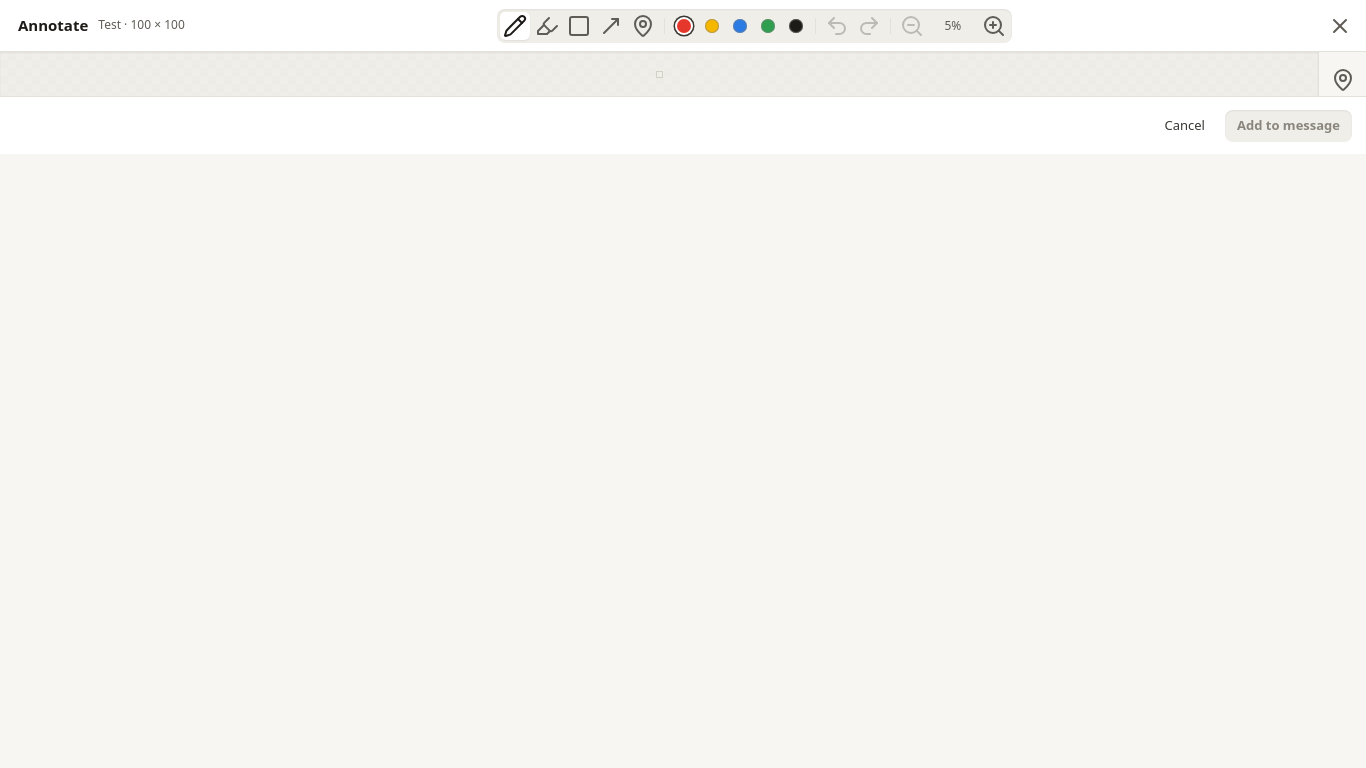
Test case: undoes an accidental pin from its empty note and allows redo
The width and height of the screenshot is (1366, 768).
Click the button titled "Show pins" at {"x": 1342, "y": 80}, box [1326,64,1358,96]
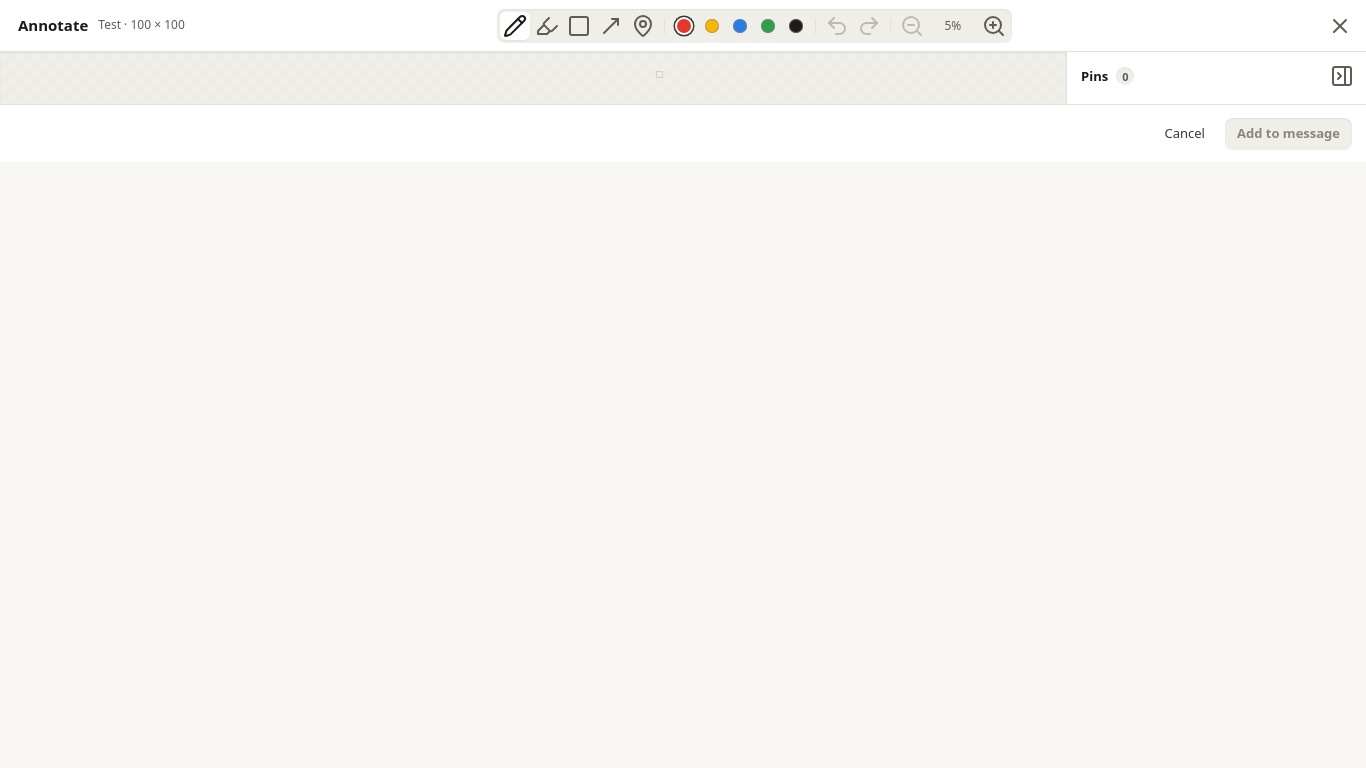
Click the button named "Pin" at {"x": 643, "y": 26}, box [628,12,658,40]
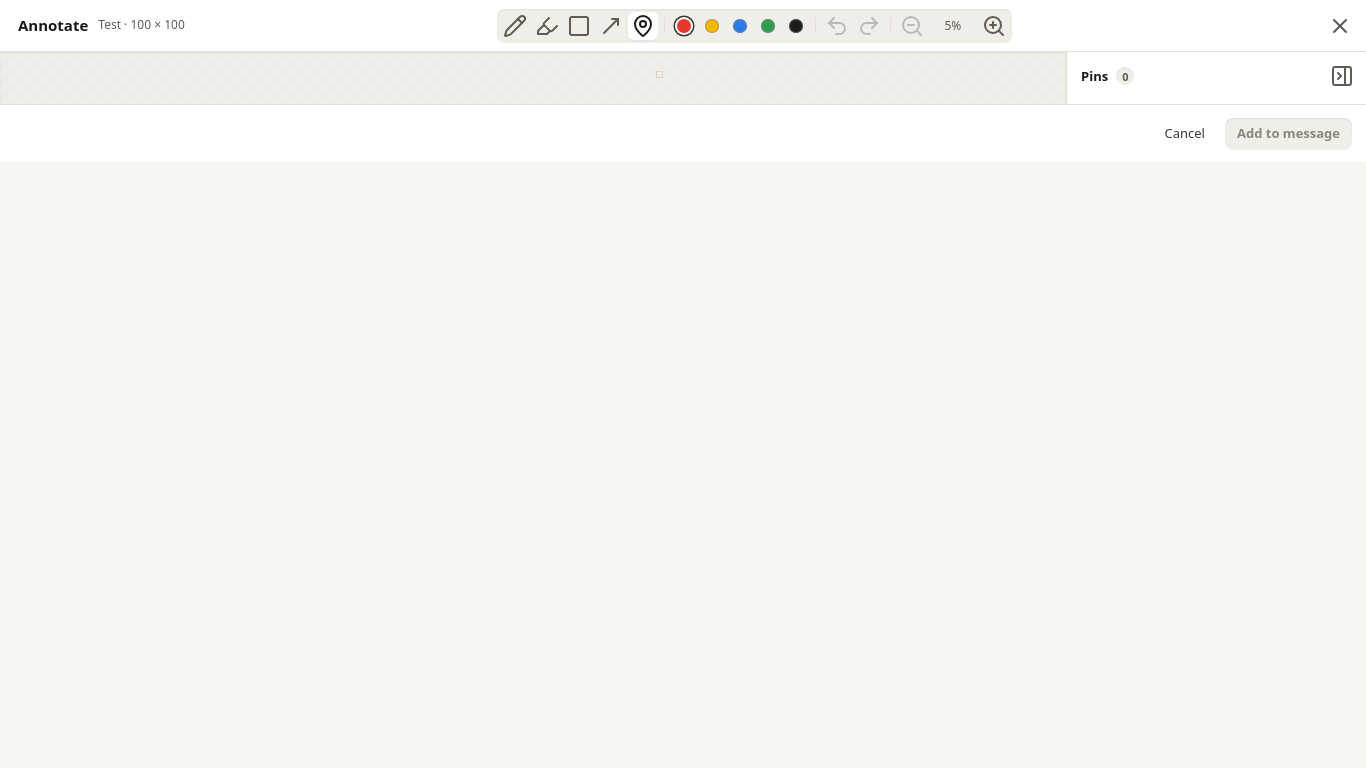
Press the mouse on the drawing named "The capture: click to place a pin, or drag to draw" at {"x": 659, "y": 74}, box [656,72,662,76]
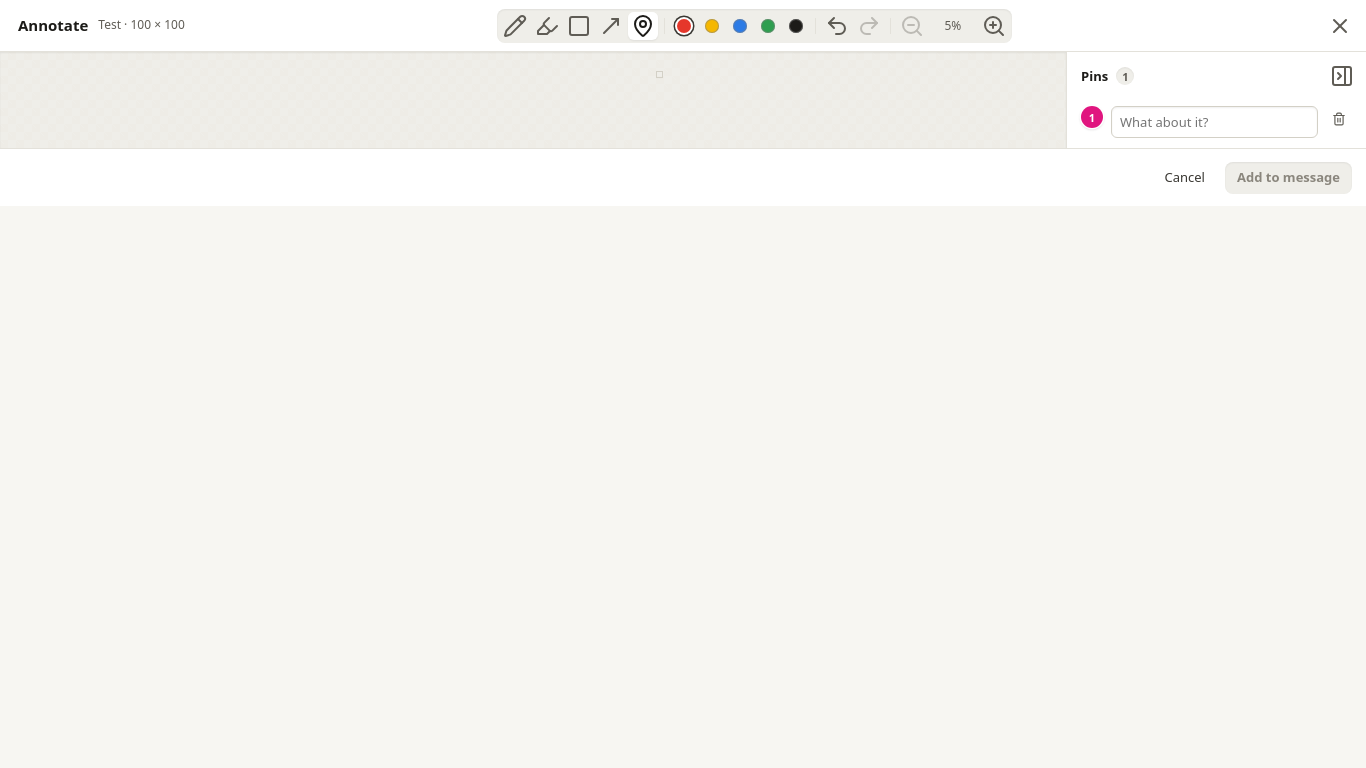
Now the text box with placeholder "What about it?" is empty
Press z in the text box with placeholder "What about it?", box [1111,106,1318,138]
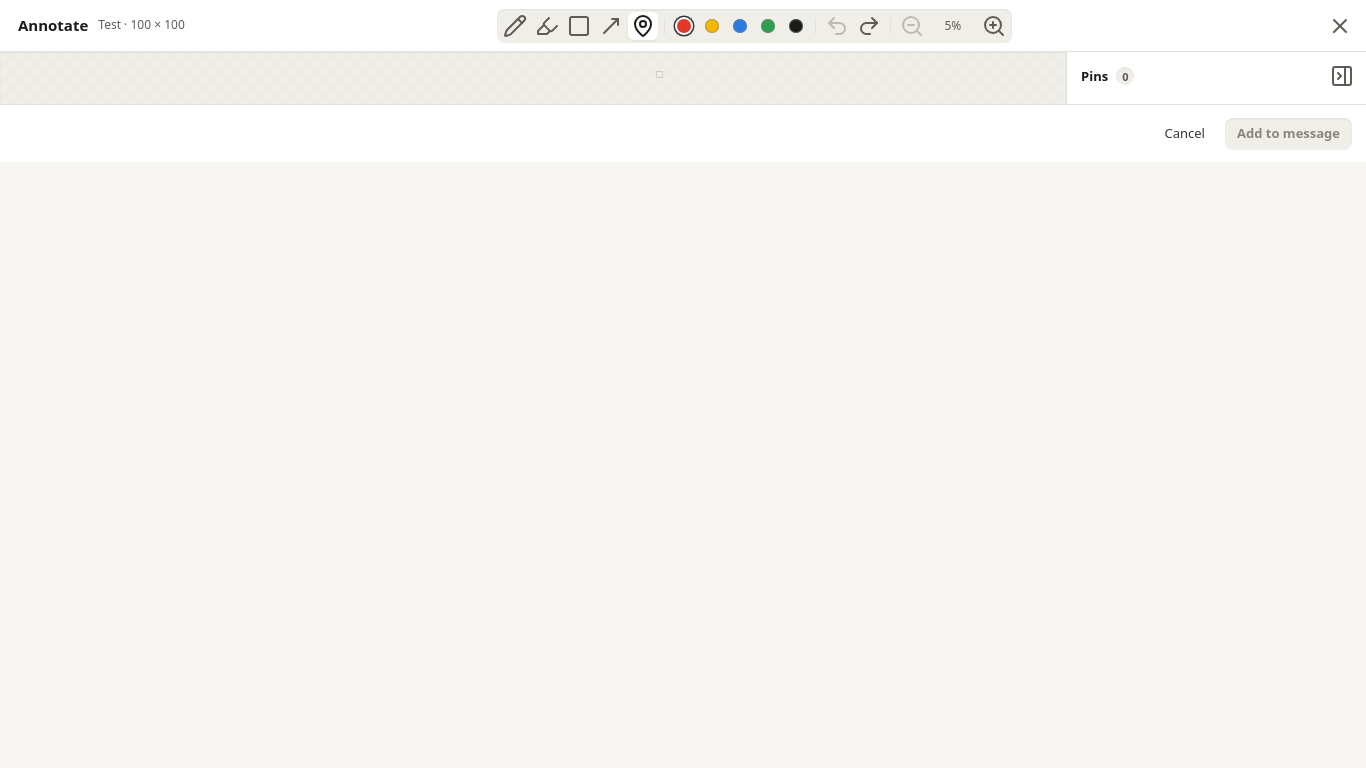
Now the text box is gone
Click the button named "Redo" at {"x": 869, "y": 26}, box [854,12,884,40]
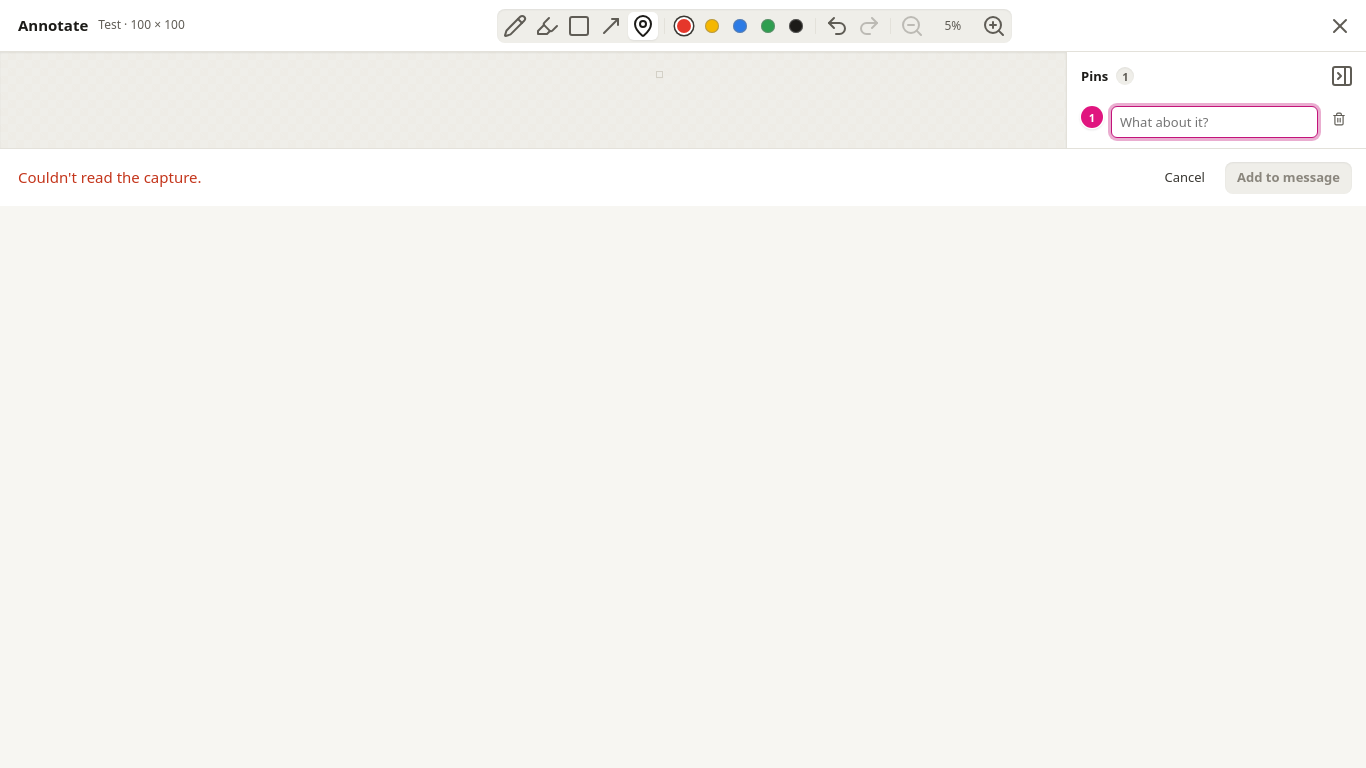
Now the text box with placeholder "What about it?" is shown, box [1111,106,1318,138]
